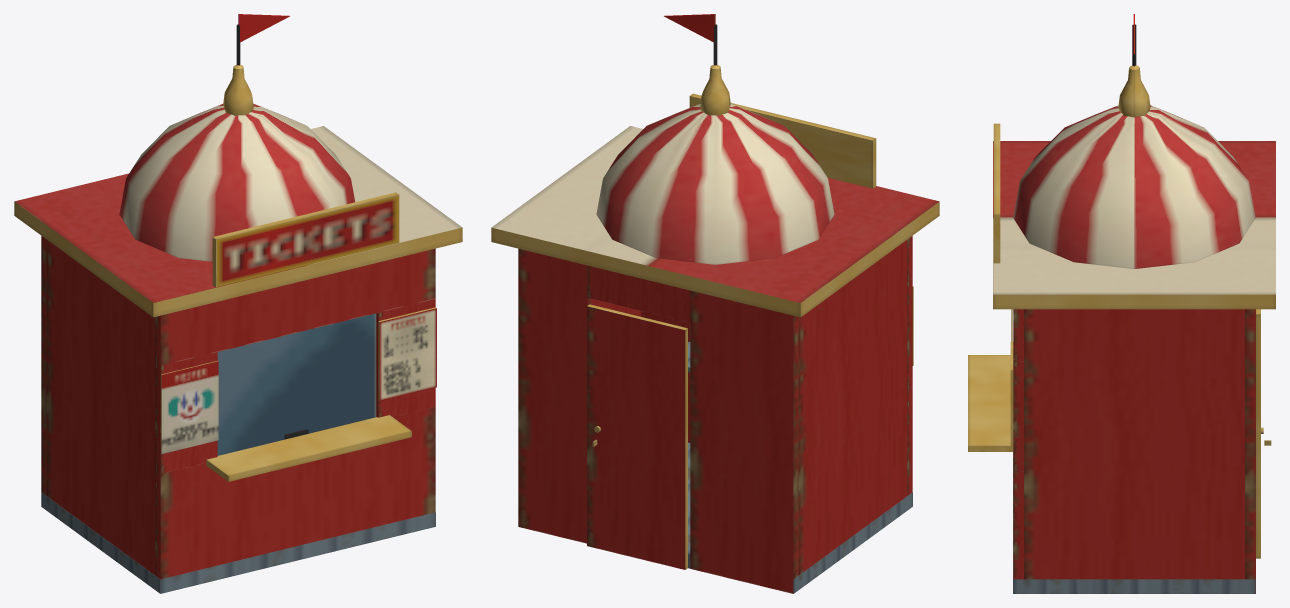
File: ticket_booth.obj
3 renders of one model, left to right at view 1: azimuth 30°, elevation 25°; view 2: azimuth 150°, elevation 25°; view 3: azimuth 270°, elevation 25°, orthographic.
Parts seen in each view (by area): view 1: ticket_booth_front, ticket_booth_roof, ticket_booth_side_l, ticket_booth, ticket_booth_back_l; view 2: ticket_booth_roof, ticket_booth_back_l, ticket_booth_side_l, ticket_booth_door, ticket_booth_back_r, ticket_booth_head, ticket_booth_front, ticket_booth; view 3: ticket_booth_side_r, ticket_booth_roof, ticket_booth_front, ticket_booth, ticket_booth_back_r, ticket_booth_door.
Part boxes in pixels (box(x1,y1,x2,y2)): ticket_booth_front: box(155, 248, 436, 579); ticket_booth_roof: box(14, 14, 462, 317); ticket_booth_side_l: box(46, 240, 155, 575); ticket_booth: box(41, 492, 435, 593); ticket_booth_back_l: box(41, 236, 46, 495); ticket_booth_roof: box(491, 14, 939, 317); ticket_booth_back_l: box(690, 290, 798, 593); ticket_booth_side_l: box(798, 240, 907, 575); ticket_booth_door: box(587, 304, 687, 569); ticket_booth_back_r: box(518, 248, 592, 543); ticket_booth_head: box(587, 265, 690, 322); ticket_booth_front: box(641, 236, 913, 495); ticket_booth: box(688, 442, 912, 593); ticket_booth_side_r: box(1024, 309, 1244, 579); ticket_booth_roof: box(993, 14, 1275, 309); ticket_booth_front: box(968, 309, 1023, 579); ticket_booth: box(1013, 452, 1255, 593); ticket_booth_back_r: box(1245, 309, 1255, 593); ticket_booth_door: box(1256, 309, 1263, 558).
Size of the model in its own units: 2.7 by 4.19 by 2.28.
Materials: 1 (1 with a texture image).
